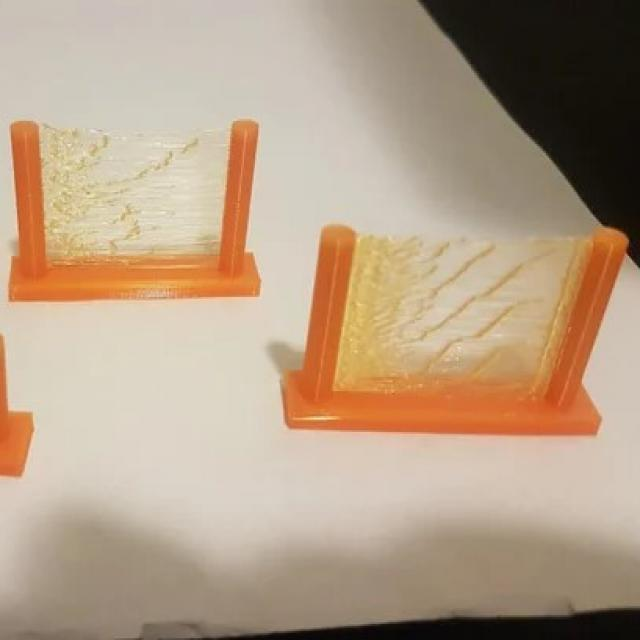Stringing: (333, 228, 596, 419), (29, 122, 235, 274)
